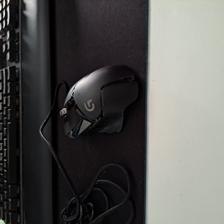mouse: (55, 62, 141, 142)
